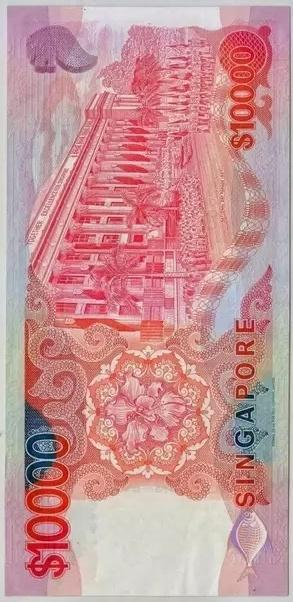10000SingaporeDollar: (10, 4, 289, 592)
